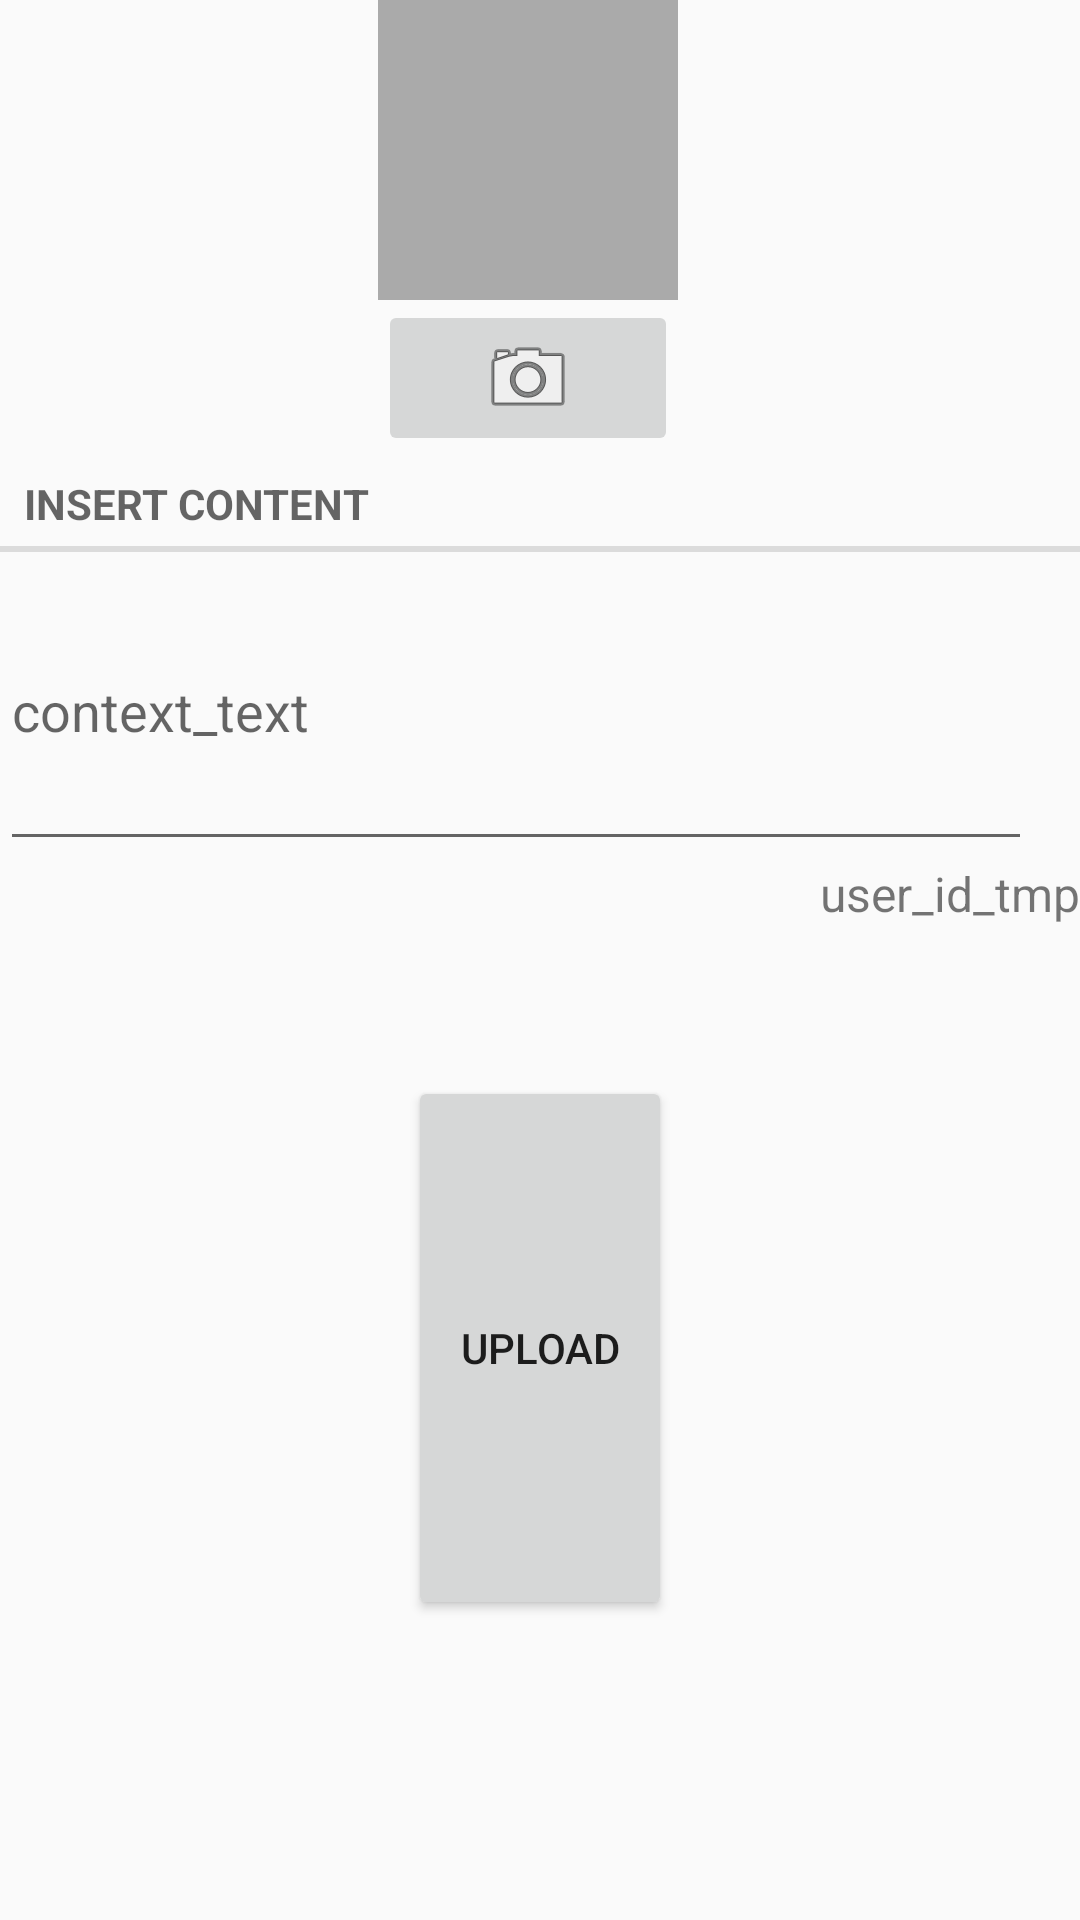

Screen size 1080x1920. Icon name, then its center in pixels as (x=x, y=y):
camera: (x=528, y=378)
